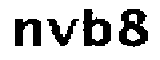8: (118, 6, 150, 48)
b: (83, 6, 114, 51)
n: (8, 14, 43, 51)
v: (46, 16, 80, 48)
